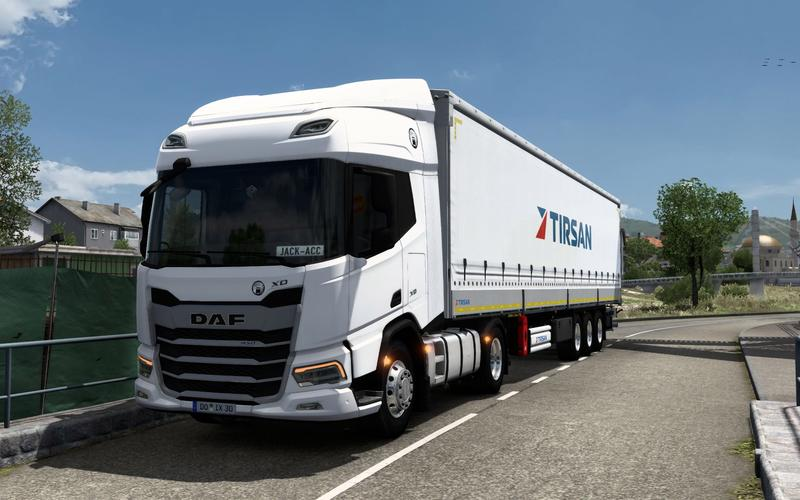卡车: (132, 82, 640, 436)
